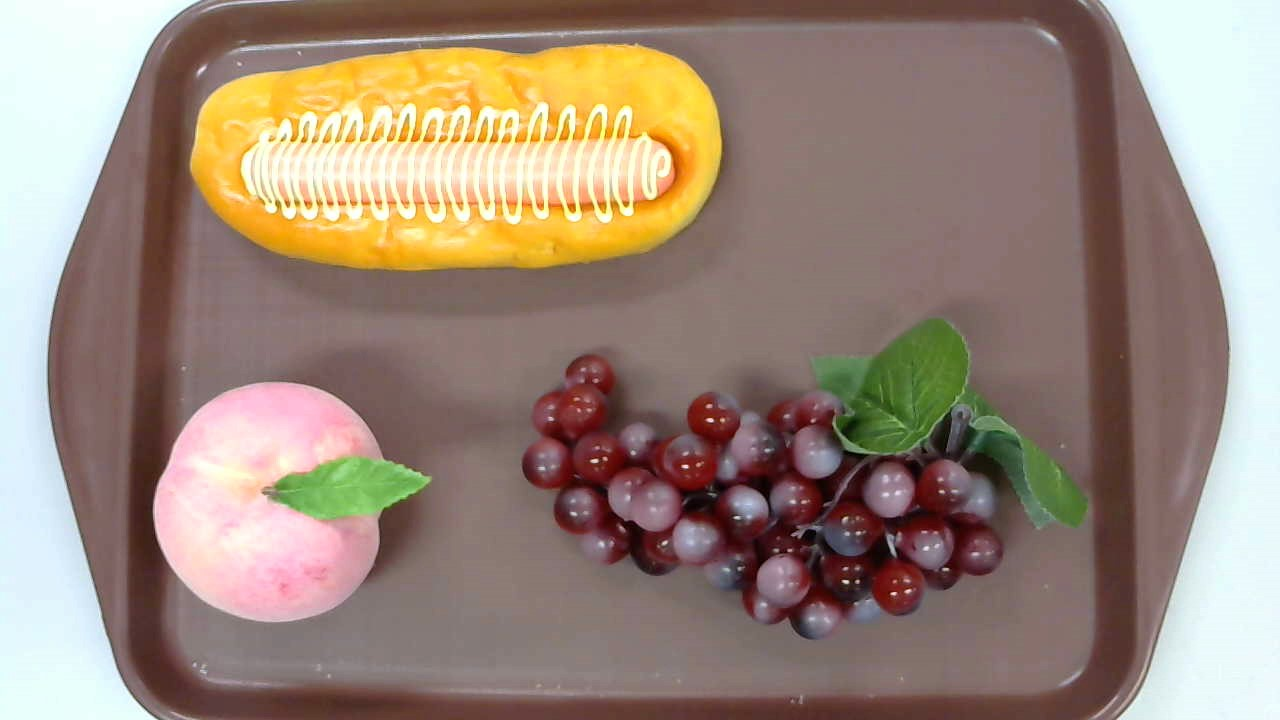grape: (522, 317, 1091, 642)
hot dog: (187, 43, 723, 272)
peach: (152, 380, 431, 623)
